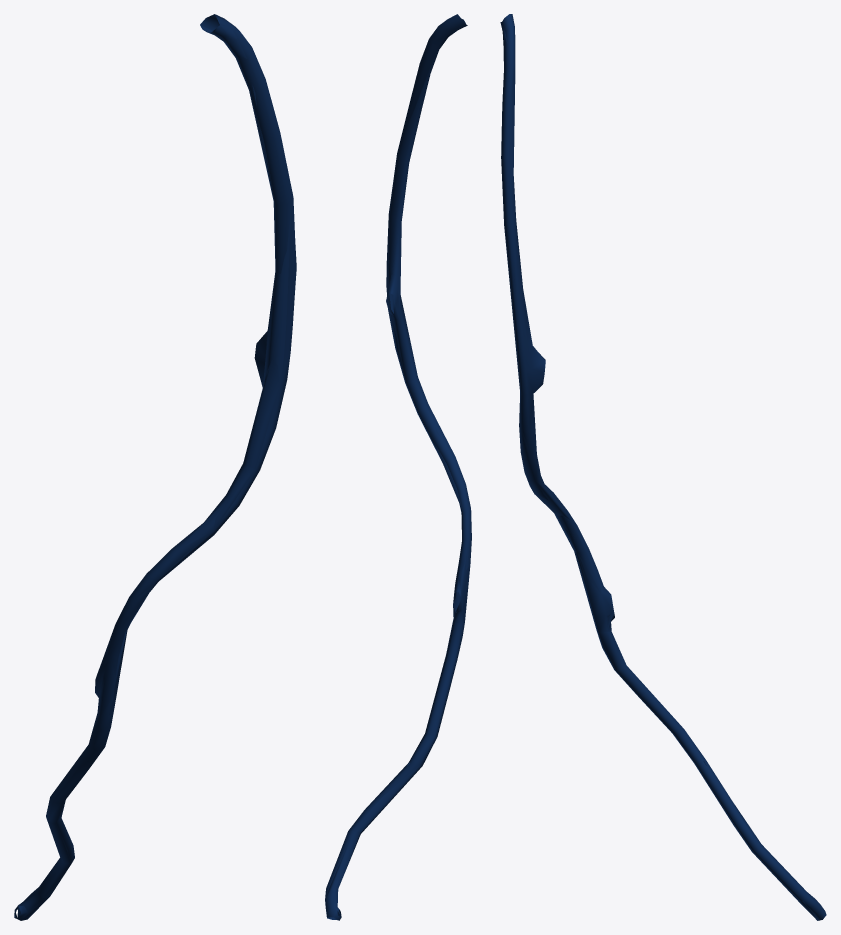
Rendered from L vena femoralis.fbx.
The picture shows the model from 3 angles, left to right: view 1: azimuth 30°, elevation 25°; view 2: azimuth 150°, elevation 25°; view 3: azimuth 270°, elevation 25°; orthographic projection. The views are drawn at different scales.
Visible parts, largest first — view 1: L vena femoralis, L vena femoralis low; view 2: L vena femoralis, L vena femoralis low; view 3: L vena femoralis, L vena femoralis low.
Boxes of the visible parts, box(x1,y1,x2,y2) form: L vena femoralis: box(14, 14, 296, 920); L vena femoralis low: box(14, 14, 290, 920); L vena femoralis: box(325, 14, 471, 920); L vena femoralis low: box(326, 24, 470, 920); L vena femoralis: box(500, 14, 826, 920); L vena femoralis low: box(502, 22, 817, 920).
Size of the model in its own units: 5.81 by 37.3 by 12.08.
